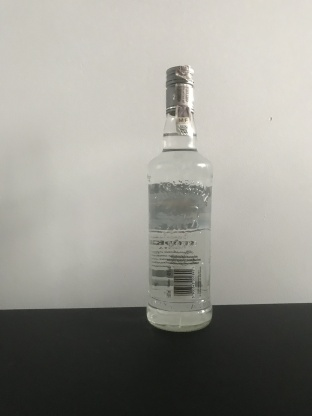nakretka: (163, 62, 196, 116)
